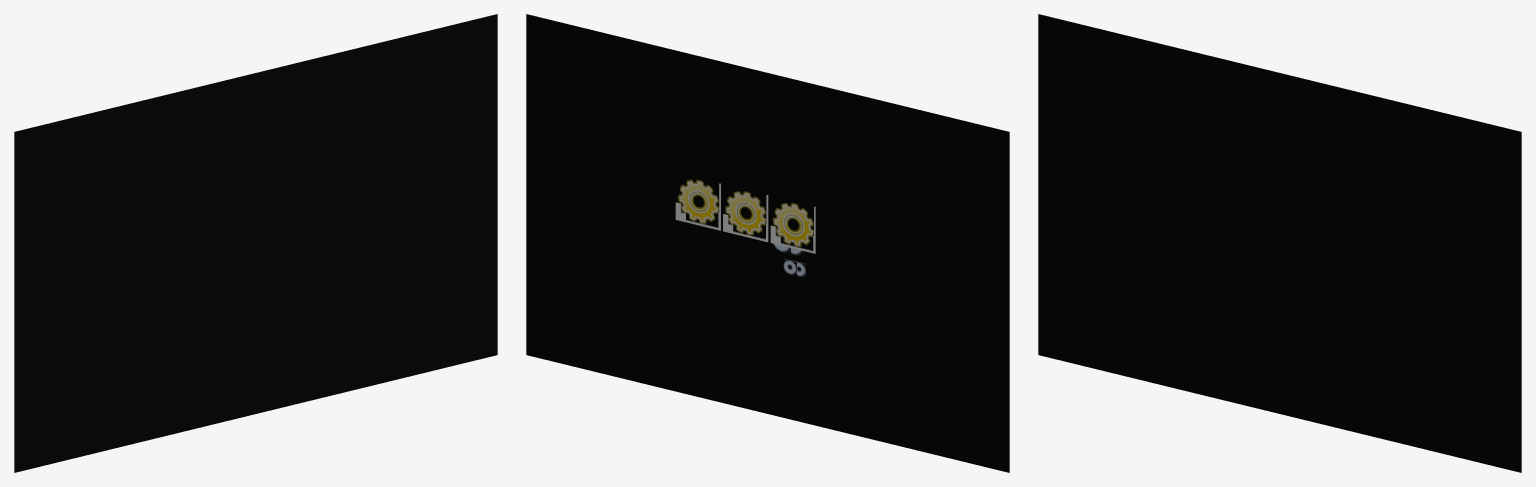
File: level_complited_window.glb
The picture shows the model from 3 angles, left to right: view 1: azimuth 30°, elevation 25°; view 2: azimuth 150°, elevation 25°; view 3: azimuth 330°, elevation 25°; orthographic projection.
Parts seen in each view (by area): view 1: Shader_roof; view 2: Shader_roof, star_GUI_1, star_GUI_2, star_GUI_3; view 3: Shader_roof.
Part boxes in pixels (bbox=[...]): Shader_roof: bbox=[14, 14, 497, 472]; Shader_roof: bbox=[526, 14, 1009, 472]; star_GUI_1: bbox=[675, 172, 720, 230]; star_GUI_2: bbox=[723, 184, 768, 242]; star_GUI_3: bbox=[770, 196, 815, 253]; Shader_roof: bbox=[1038, 14, 1521, 472].
Size of the model in its own units: 1300 by 876 by 113.
3 materials, 3 textured.
